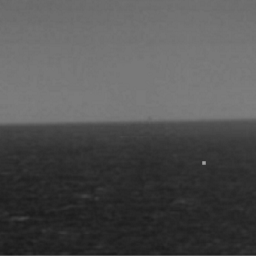Target: (199, 159, 207, 167)
